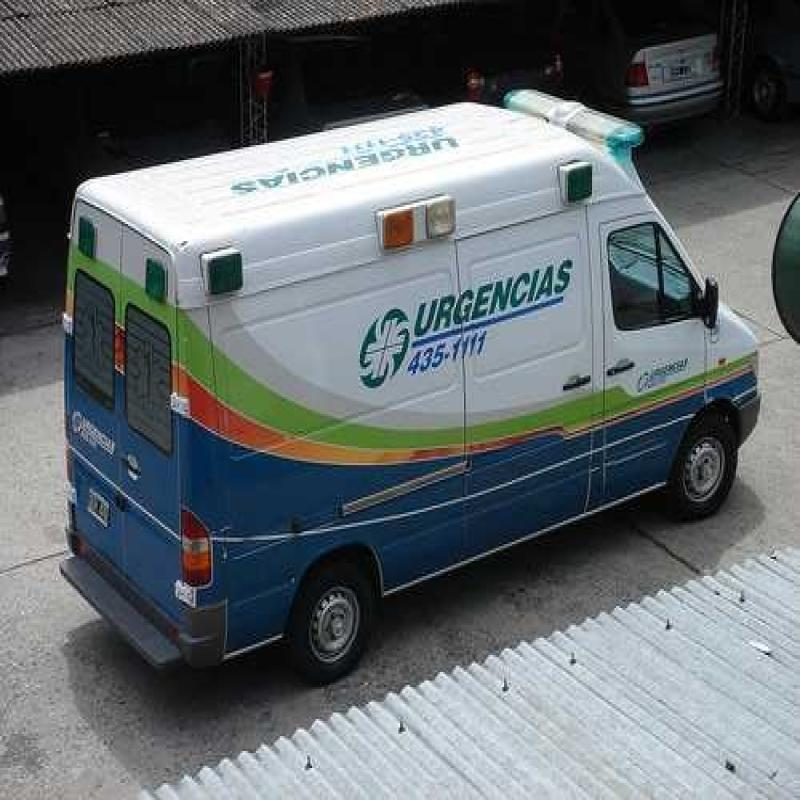AmbulanceSiren: (367, 186, 463, 260), (194, 244, 264, 305), (544, 158, 608, 216)
